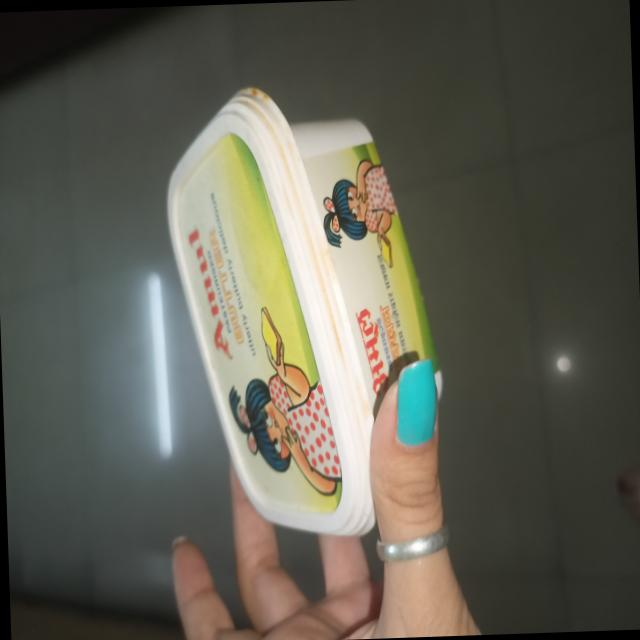plastic_box: (174, 62, 435, 568)
